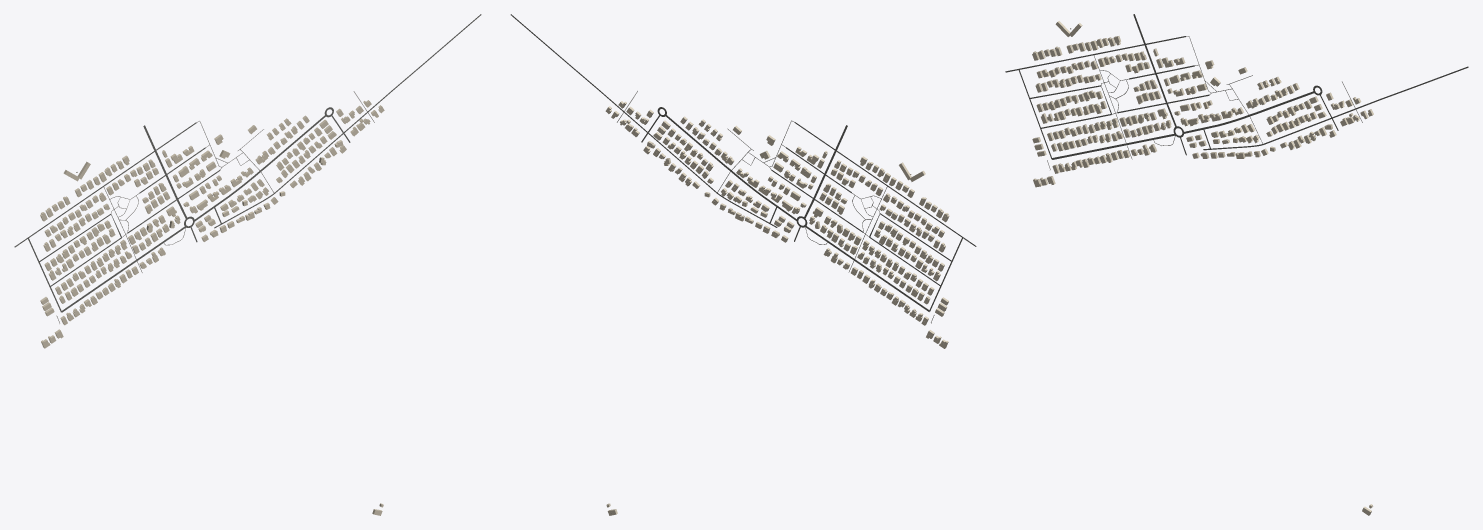
The model's file is historic-palestine-06_18_3484_3125.glb.
3 views of the same model, side by side, from view 1: azimuth 30°, elevation 25°; view 2: azimuth 150°, elevation 25°; view 3: azimuth 330°, elevation 25° (orthographic).
Visible parts, largest first — view 1: Road הגפן.001; view 2: Road הגפן.001; view 3: Road הגפן.001.
Boxes of the visible parts, box(x1,y1,x2,y2) form: Road הגפן.001: box(214, 14, 481, 228); Road הגפן.001: box(510, 14, 777, 227); Road הגפן.001: box(1203, 66, 1468, 150).
Bounding box in the file's own units: 1298 × 1268 × 8.7.
